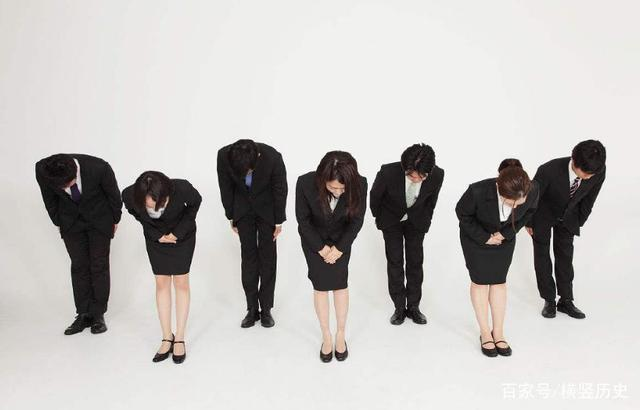bending: (21, 145, 122, 343), (289, 149, 368, 366), (122, 171, 205, 367), (213, 136, 291, 333), (457, 163, 535, 356), (370, 142, 448, 328), (539, 139, 610, 327)
